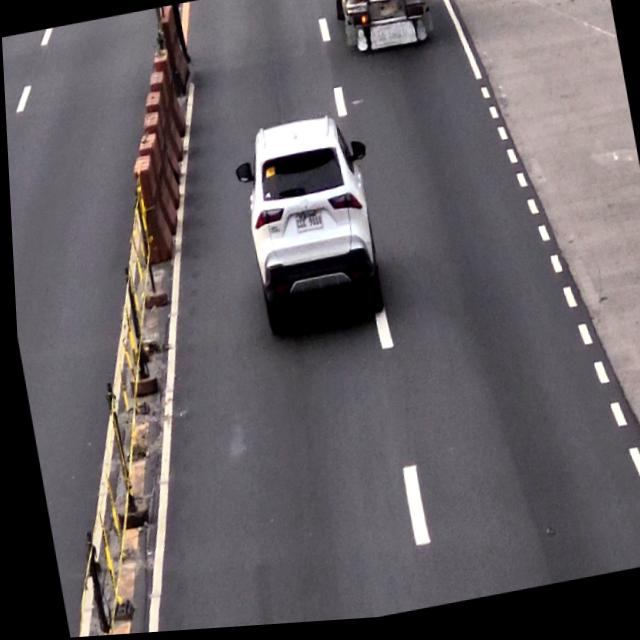Car: (234, 117, 379, 332)
Jeep: (332, 0, 431, 58)
License-Plate: (289, 209, 325, 241)
